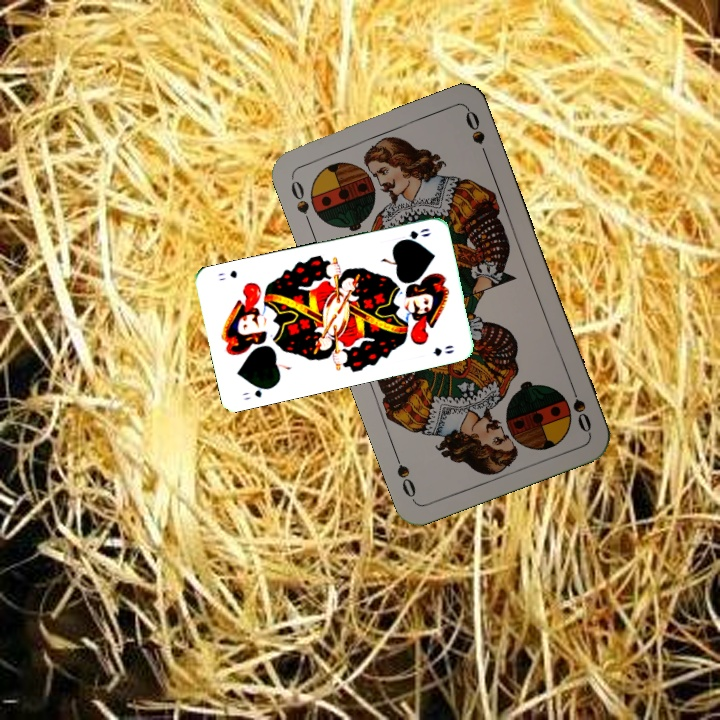GO: (394, 224, 433, 246), (238, 382, 275, 403)
SO: (565, 378, 594, 436), (286, 173, 315, 230)
